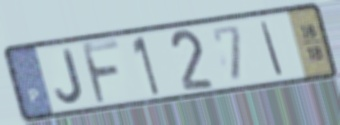1: (131, 34, 162, 97)
2: (170, 27, 215, 91)
7: (210, 23, 244, 83)
F: (78, 38, 123, 107)
I: (258, 19, 285, 77)
J: (53, 47, 86, 106)
